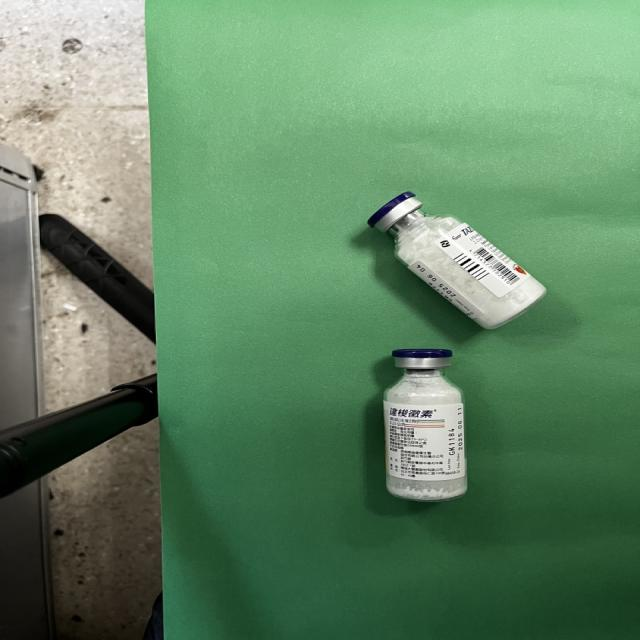Vials: (367, 192, 545, 330), (383, 348, 467, 502)
